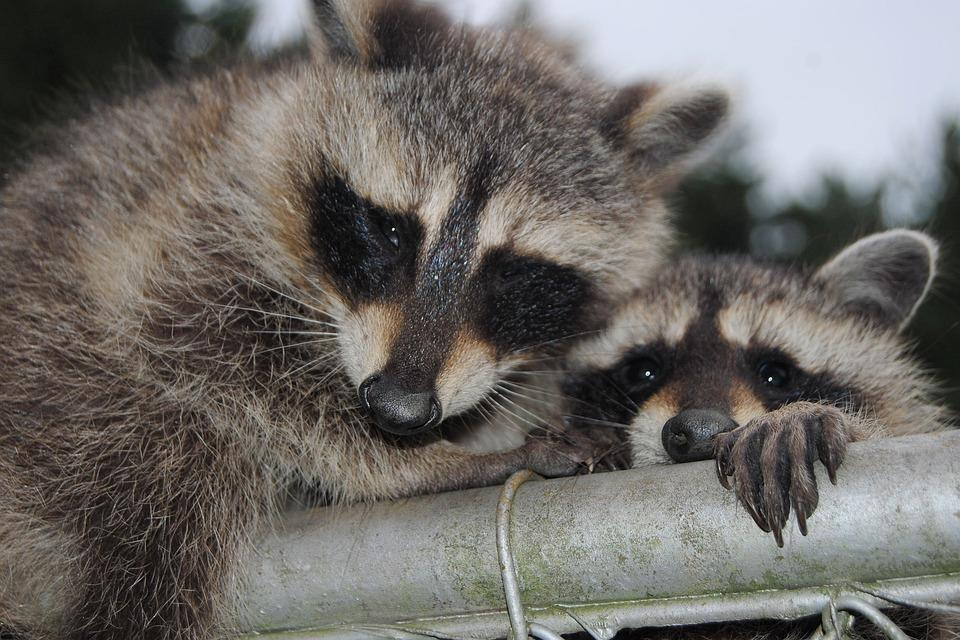raccoon: (0, 3, 607, 640)
